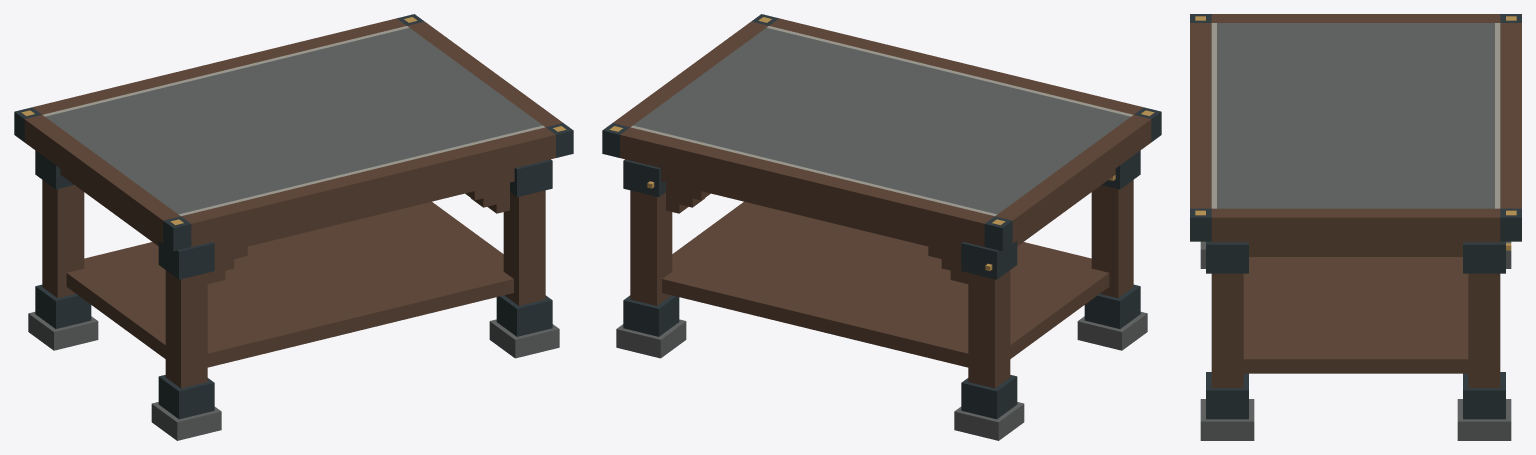
The model's file is visual-far.glb.
3 views of the same model, side by side, from view 1: azimuth 30°, elevation 25°; view 2: azimuth 150°, elevation 25°; view 3: azimuth 270°, elevation 25° (orthographic). The views are drawn at different scales.
Parts seen in each view (by area): view 1: 茶几台面, 茶几桌架; view 2: 茶几台面, 茶几桌架; view 3: 茶几台面, 茶几桌架.
Part boxes in pixels (x1,y1,x2,y2): 茶几台面: [14, 14, 573, 251]; 茶几桌架: [28, 150, 559, 440]; 茶几台面: [602, 14, 1161, 251]; 茶几桌架: [616, 150, 1147, 440]; 茶几台面: [1190, 14, 1521, 241]; 茶几桌架: [1200, 241, 1511, 440].
Bounding box in the file's own units: 0.9 × 0.47 × 0.62.
6 materials, 6 textured.
